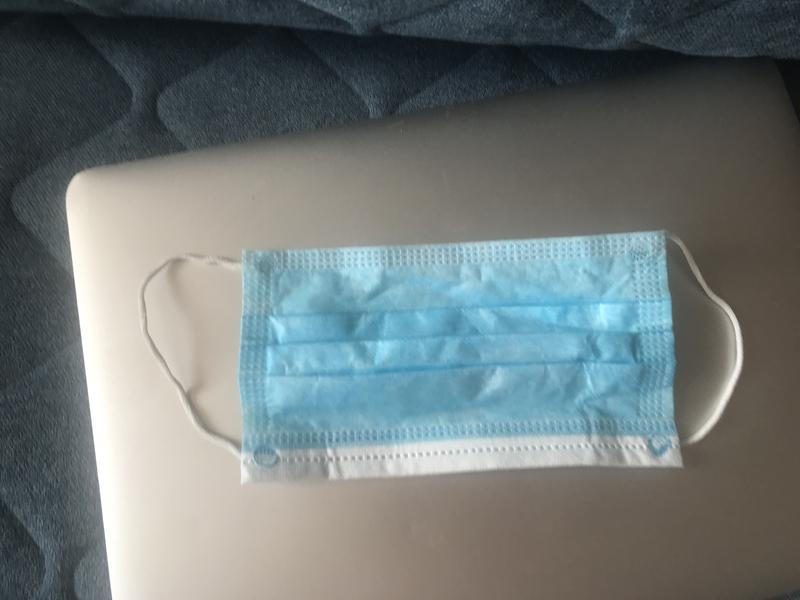medical_mask: (139, 229, 745, 485)
